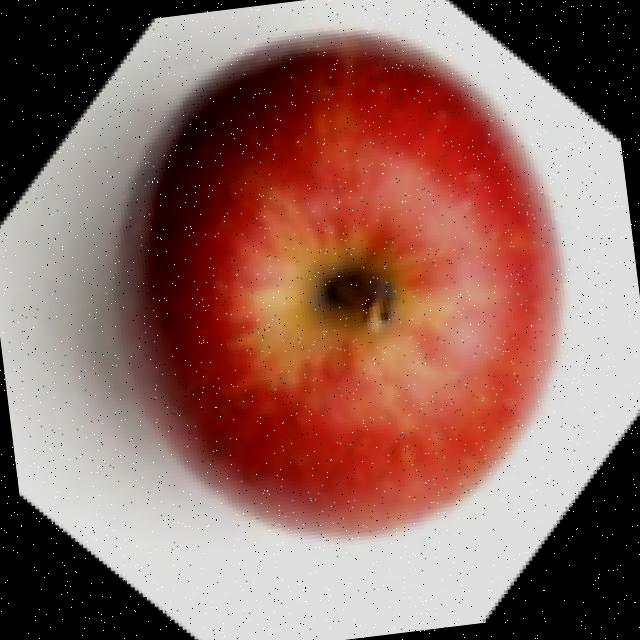Ripe: (73, 0, 603, 569)
